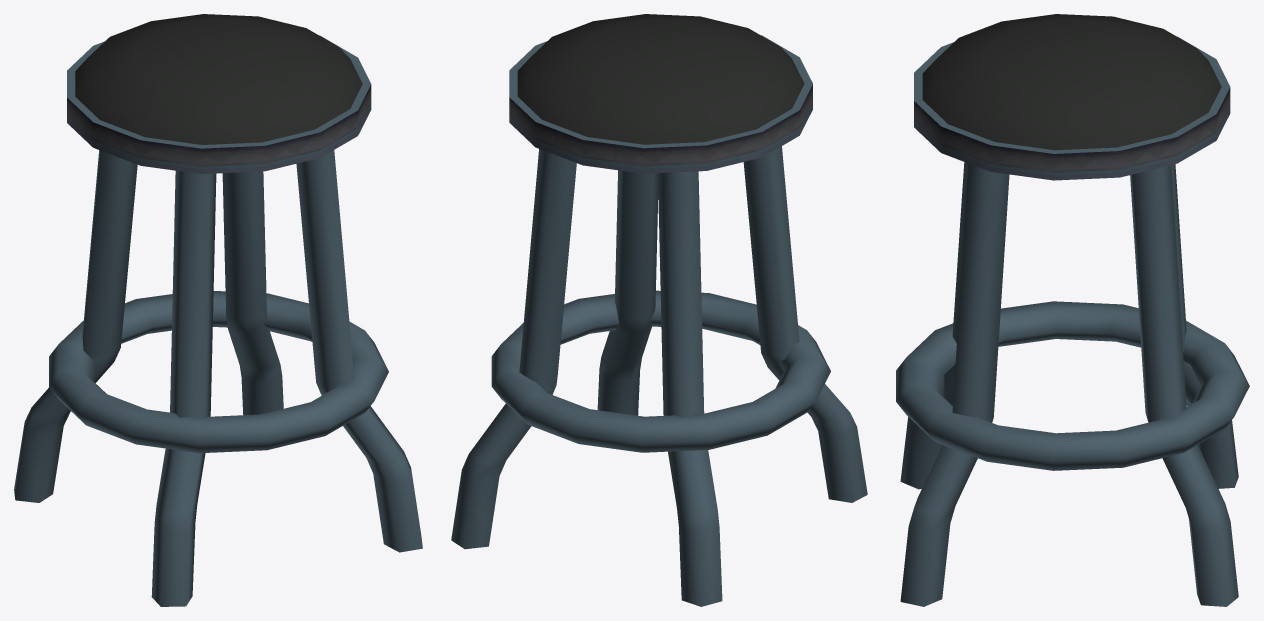
File: mdlCLMetalStool.fbx
3 views of the same model, side by side, from view 1: azimuth 30°, elevation 25°; view 2: azimuth 150°, elevation 25°; view 3: azimuth 270°, elevation 25° (orthographic). The views are drawn at different scales.
Visible parts, largest first — view 1: BarStoolTable; view 2: BarStoolTable; view 3: BarStoolTable.
Part boxes in pixels (bbox=[...]): BarStoolTable: bbox=[14, 14, 422, 606]; BarStoolTable: bbox=[451, 14, 867, 606]; BarStoolTable: bbox=[896, 14, 1249, 606].
Size of the model in its own units: 96.95 by 149 by 96.41.
